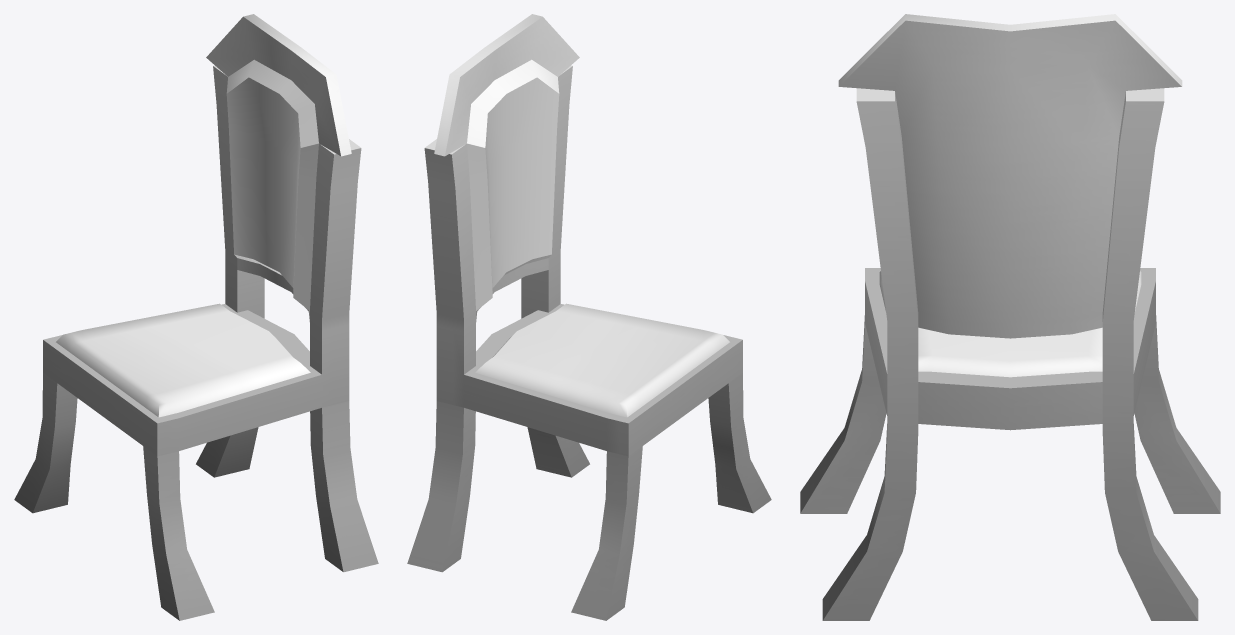
File: Hotchair.fbx
3 views of the same model, side by side, from view 1: azimuth 30°, elevation 25°; view 2: azimuth 150°, elevation 25°; view 3: azimuth 270°, elevation 25° (orthographic). The views are drawn at different scales.
Visible parts, largest first — view 1: HotChair; view 2: HotChair; view 3: HotChair.
Part boxes in pixels (x1,y1,x2,y2): HotChair: (14,14,378,620); HotChair: (407,14,771,620); HotChair: (800,14,1220,620).
Size of the model in its own units: 3.81 by 8.2 by 5.26.
